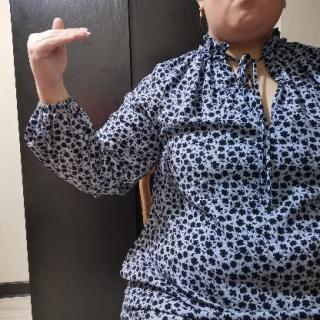KHAA: (27, 13, 98, 94)
